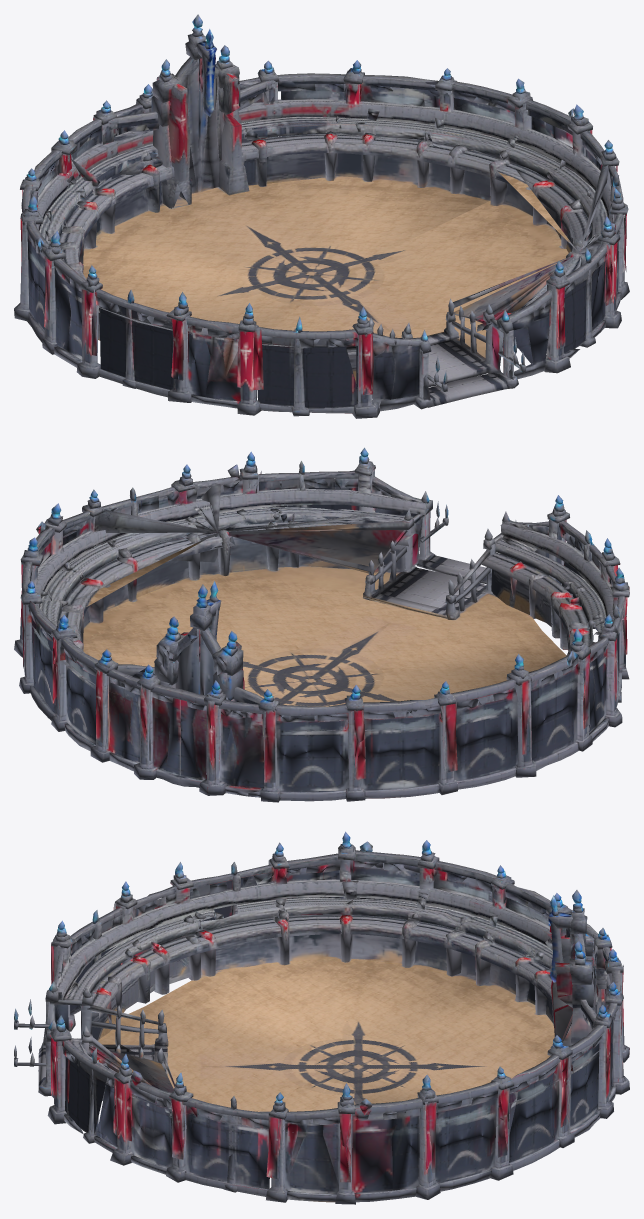
Rendered from Meshy_AI_Crystal_Crown_Arena_1006055427_texture.fbx.
3 views of the same model, one above another, from view 1: azimuth 30°, elevation 25°; view 2: azimuth 150°, elevation 25°; view 3: azimuth 270°, elevation 25° (orthographic).
Visible parts, largest first — view 1: Mesh_0; view 2: Mesh_0; view 3: Mesh_0.
Part boxes in pixels (left/top/right/bottom): Mesh_0: left=14, top=14, right=629, bottom=418; Mesh_0: left=14, top=447, right=629, bottom=802; Mesh_0: left=14, top=831, right=629, bottom=1204.
Bounding box in the file's own units: 100 × 32.91 × 99.69.
Materials: 1 (1 with a texture image).
